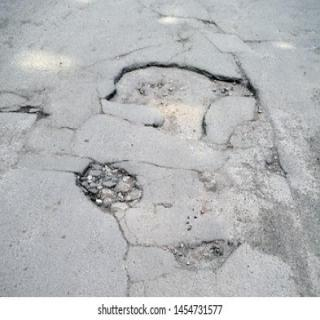pothole: (104, 62, 256, 146), (75, 162, 144, 214), (166, 240, 242, 272)
